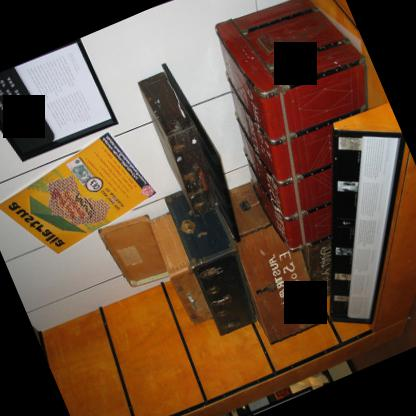suitcase: (215, 0, 369, 251), (216, 184, 323, 343), (163, 188, 257, 333), (98, 210, 212, 324), (137, 70, 218, 214)
